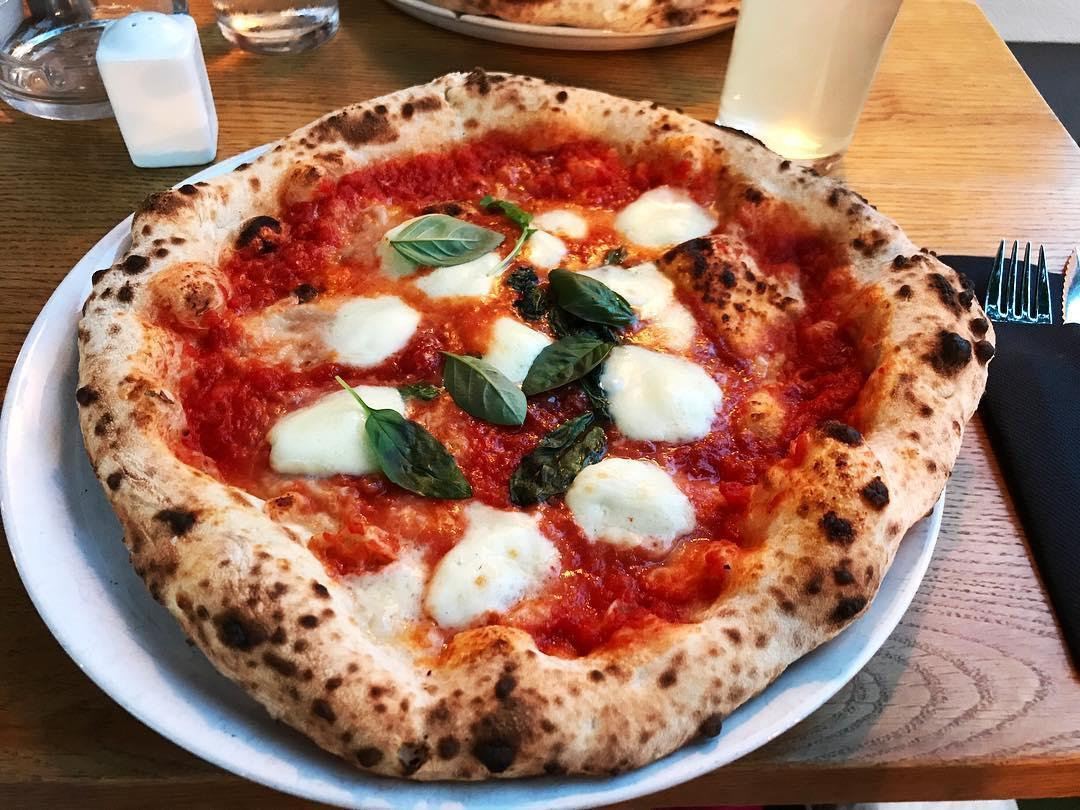Basil: (373, 413, 469, 501), (513, 416, 606, 499), (447, 354, 525, 429), (389, 218, 499, 266), (525, 334, 606, 398), (553, 273, 634, 324)
Cheese: (440, 521, 541, 616), (282, 392, 394, 463), (617, 355, 710, 428), (584, 468, 677, 530), (335, 303, 413, 361), (629, 196, 701, 240)
Pizza: (79, 73, 970, 776)
